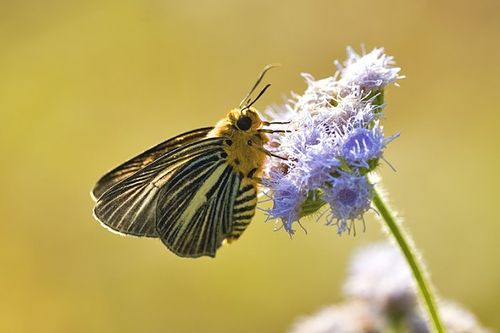Hesperiidae: (90, 57, 295, 261)
